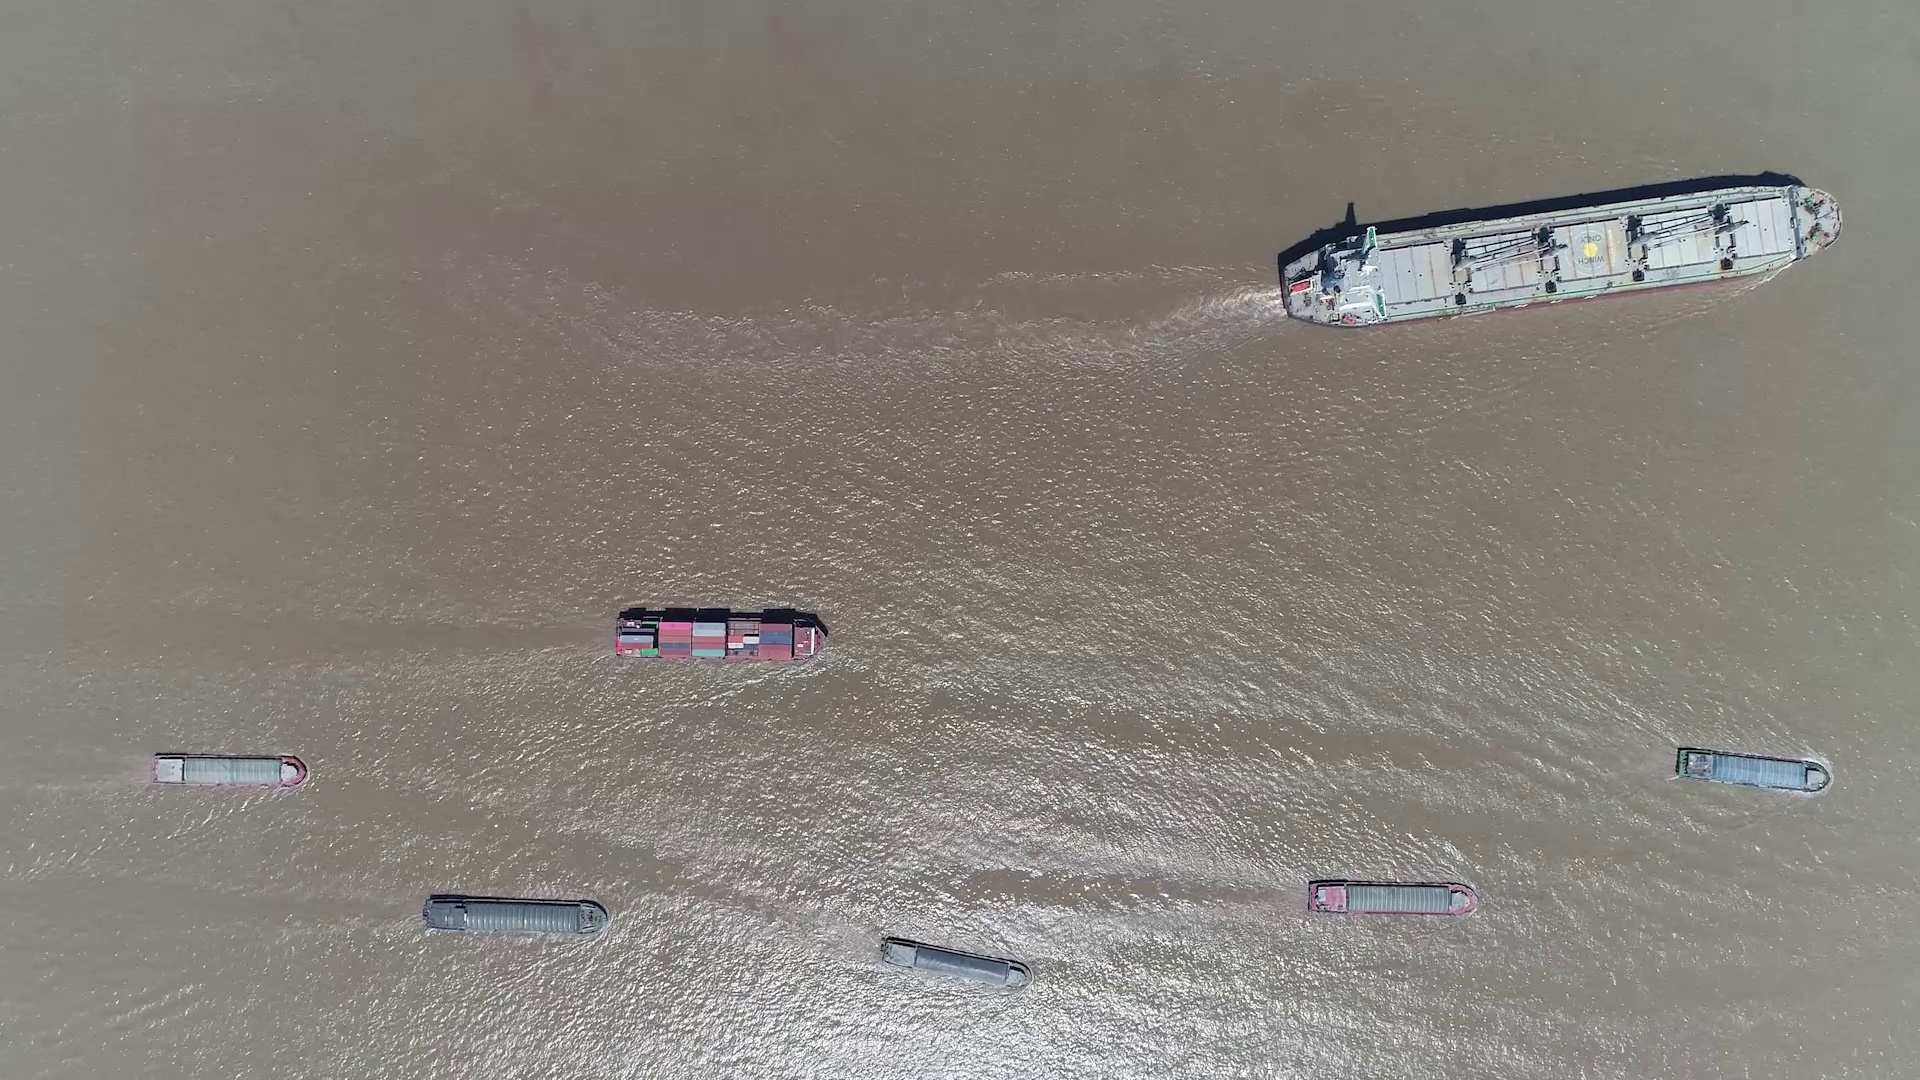ship: (1279, 183, 1844, 327), (613, 615, 823, 665), (880, 938, 1029, 989), (1673, 746, 1830, 794), (422, 894, 607, 934), (1305, 880, 1477, 916), (149, 753, 306, 789)
